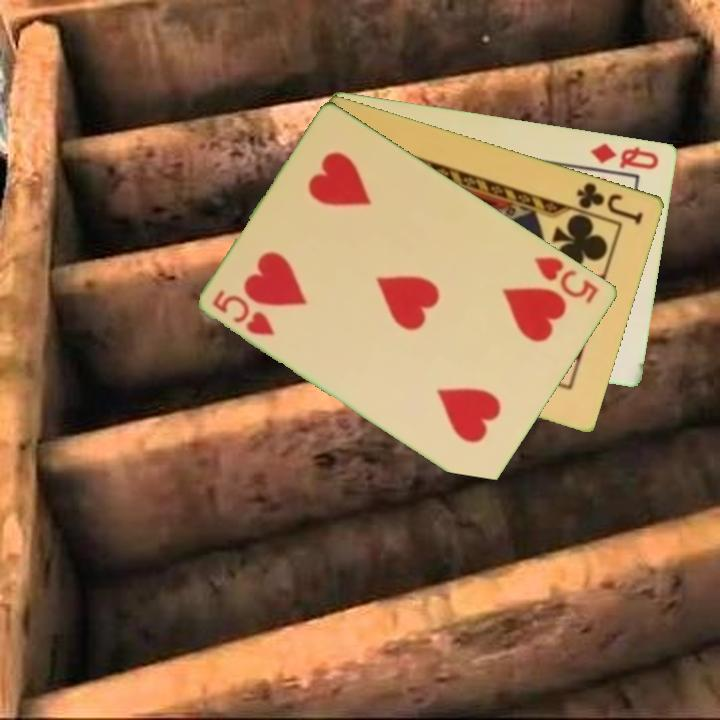5h: (531, 252, 603, 307), (209, 286, 279, 339)
Jc: (573, 178, 647, 227)
Qd: (587, 139, 662, 172)
